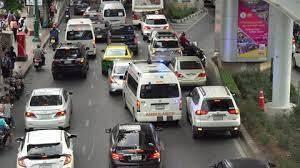AMBULANCE: (120, 59, 185, 121)
